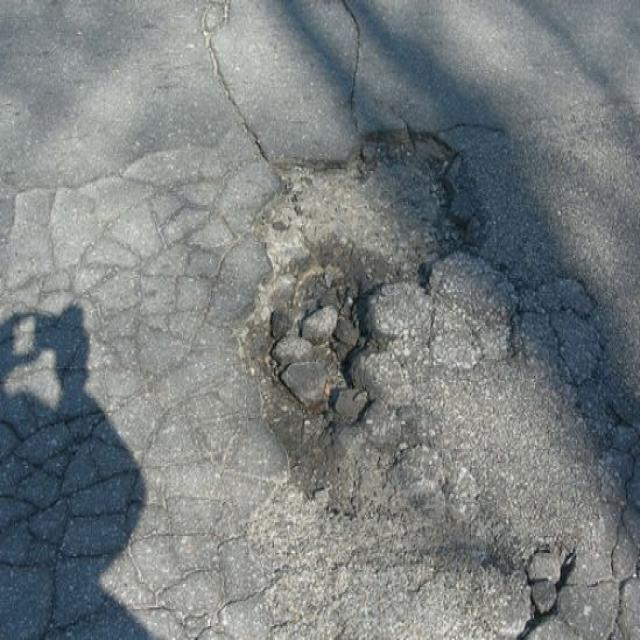pothole: (227, 115, 483, 502)
